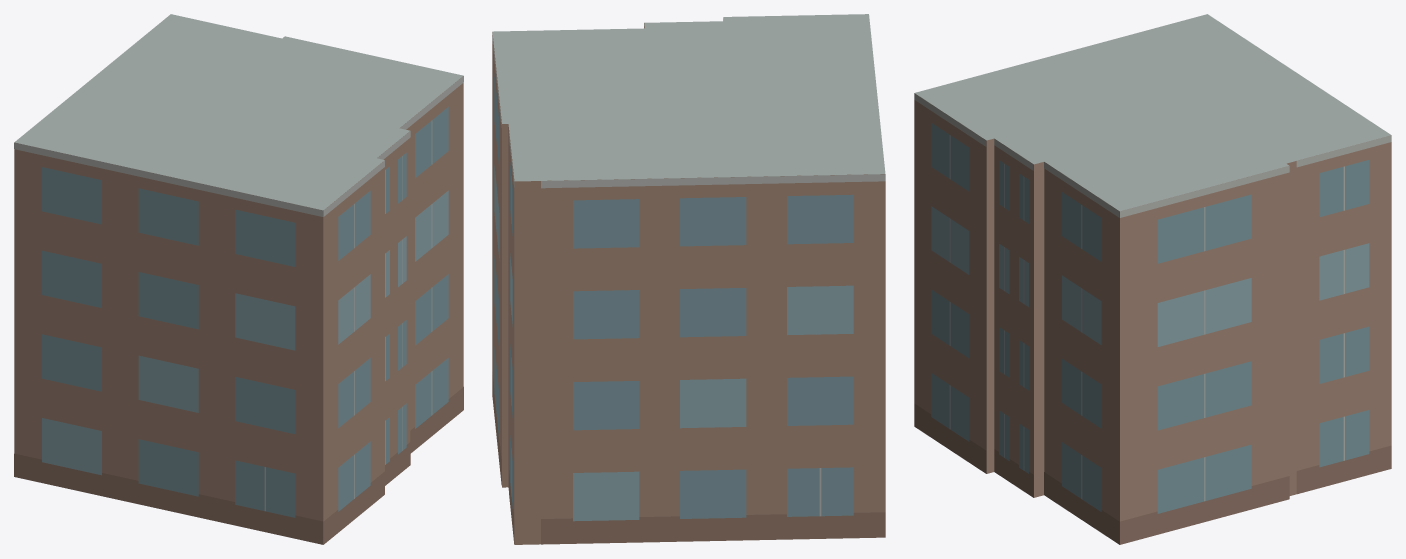
File: survey-upis-32749118.glb
The picture shows the model from 3 angles, left to right: view 1: azimuth 30°, elevation 25°; view 2: azimuth 150°, elevation 25°; view 3: azimuth 270°, elevation 25°; orthographic projection. The views are drawn at different scales.
Visible parts, largest first — view 1: survey-upis-32749118.tmp; view 2: survey-upis-32749118.tmp; view 3: survey-upis-32749118.tmp.
Part boxes in pixels (x1,y1,x2,y2): survey-upis-32749118.tmp: (14, 14, 463, 544); survey-upis-32749118.tmp: (492, 14, 885, 544); survey-upis-32749118.tmp: (914, 14, 1391, 544).
Bounding box in the file's own units: 15.37 × 12.1 × 15.71.
